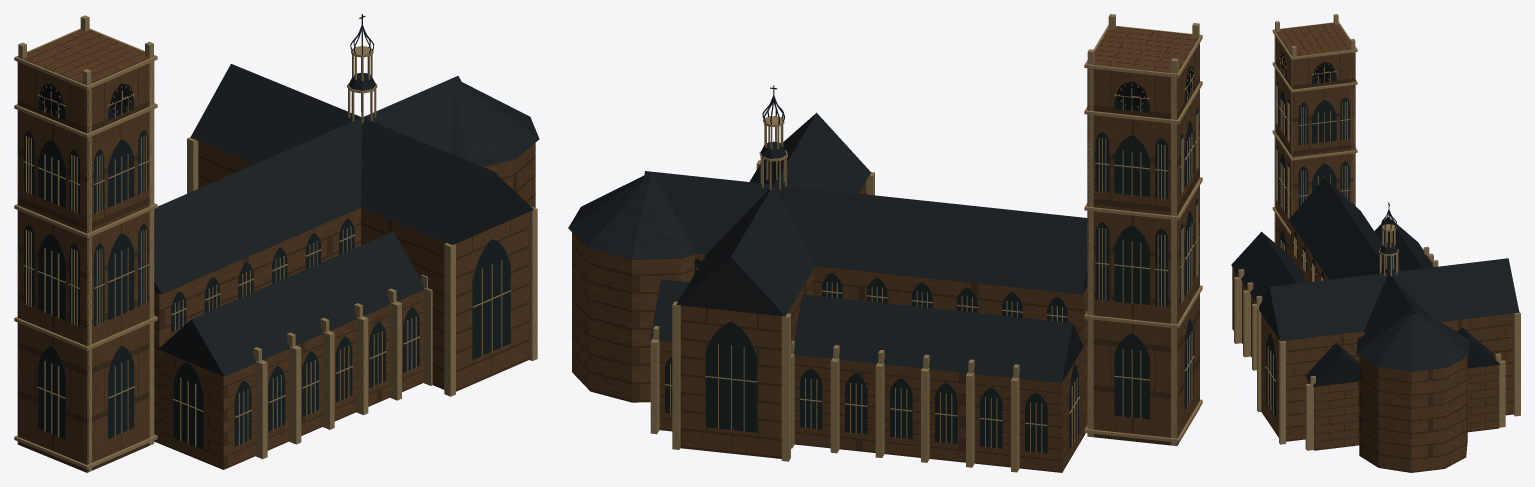
3 views of the same model, side by side, from view 1: azimuth 30°, elevation 25°; view 2: azimuth 150°, elevation 25°; view 3: azimuth 270°, elevation 25° (orthographic). The views are drawn at different scales.
Visible parts, largest first — view 1: laurenskerk-0, laurenskerk-1, laurenskerk-3, laurenskerk-2, laurenskerk-4; view 2: laurenskerk-0, laurenskerk-1, laurenskerk-2, laurenskerk-3, laurenskerk-4; view 3: laurenskerk-0, laurenskerk-1, laurenskerk-3, laurenskerk-2, laurenskerk-4.
Boxes of the visible parts, box(x1,y1,x2,y2) form: laurenskerk-0: box(17, 29, 535, 472); laurenskerk-1: box(154, 25, 539, 376); laurenskerk-3: box(14, 15, 537, 472); laurenskerk-2: box(24, 83, 510, 449); laurenskerk-4: box(40, 14, 365, 114); laurenskerk-0: box(572, 26, 1199, 472); laurenskerk-1: box(568, 95, 1087, 383); laurenskerk-2: box(665, 66, 1198, 453); laurenskerk-3: box(650, 14, 1202, 472); laurenskerk-4: box(770, 66, 1193, 109); laurenskerk-0: box(1232, 23, 1513, 472); laurenskerk-1: box(1231, 177, 1519, 386); laurenskerk-3: box(1234, 14, 1520, 450); laurenskerk-2: box(1266, 52, 1349, 417); laurenskerk-4: box(1279, 52, 1389, 209).
Bounding box in the file's own units: 95.25 × 64 × 61.74.
Materials: 5 (5 with a texture image).
